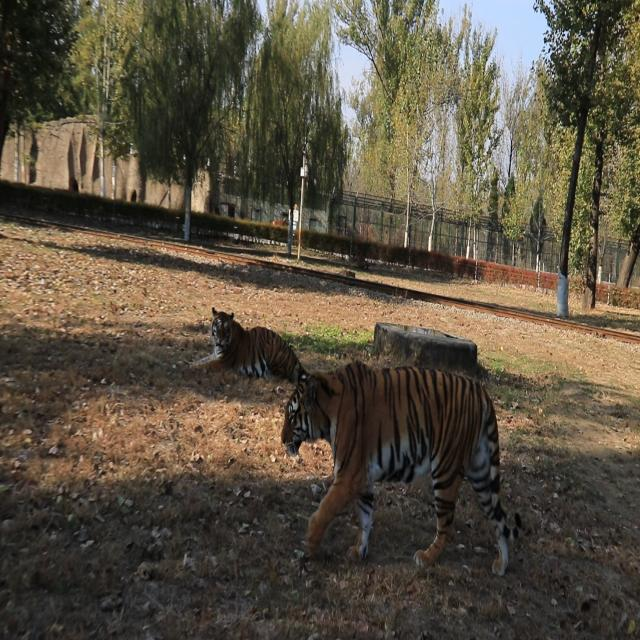Tiger: (280, 350, 524, 584), (187, 304, 295, 381)
